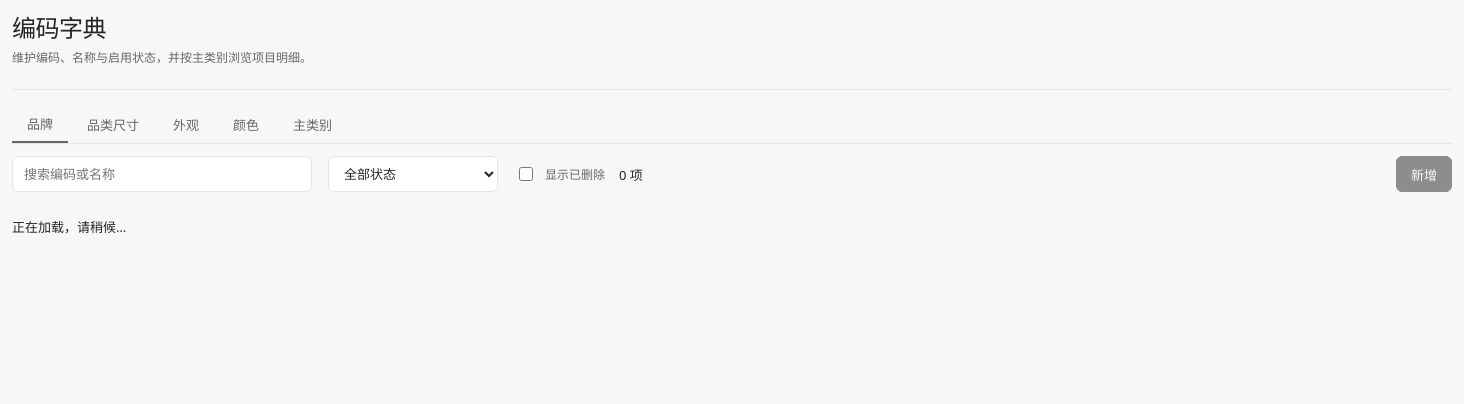
Test: DictionariesPage › filters project details by selected main category ID
Click the tab "主类别": (313, 124) x1=278 y1=106 x2=347 y2=143
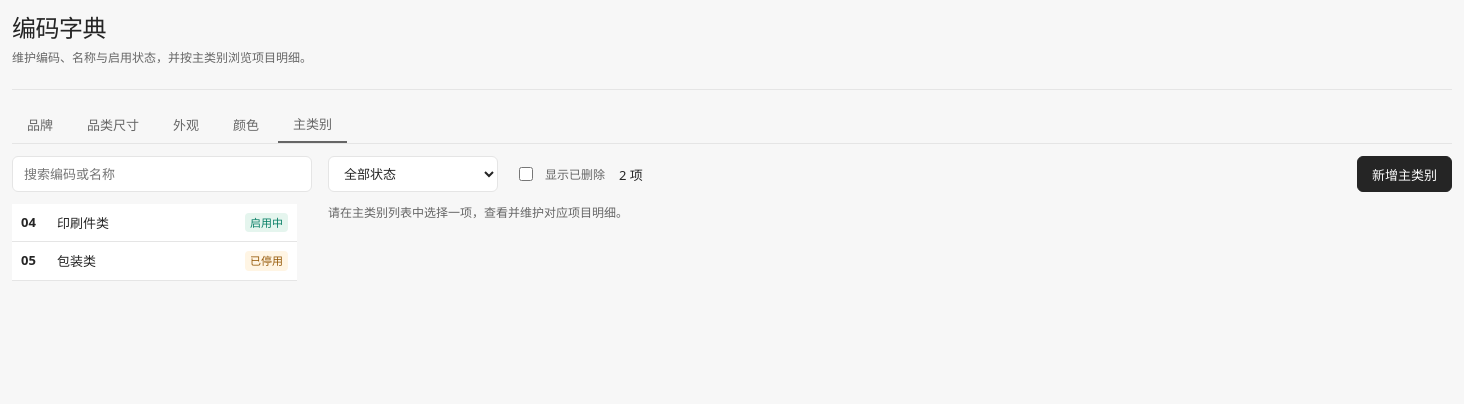
Result: the text "印刷件类" is shown at x1=57 y1=214 x2=109 y2=232
Click the button with aria-label "查看 印刷件类 的项目明细": (83, 223) x1=12 y1=204 x2=297 y2=242
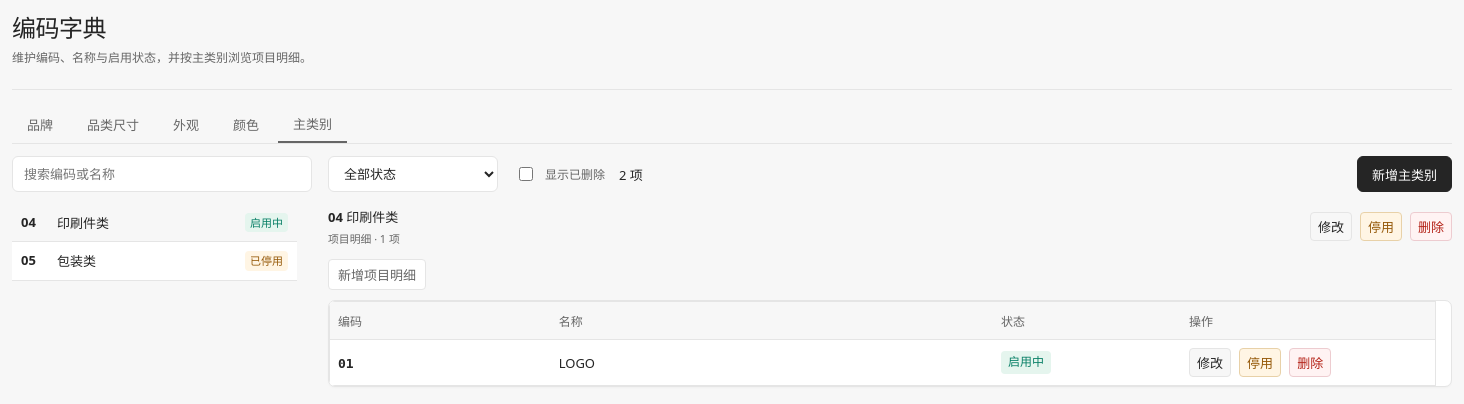
Expected: the text "大外箱" is not shown
Result: the text "LOGO" is shown at x1=551 y1=340 x2=993 y2=386
Click the button with aria-label "查看 包装类 的项目明细": (77, 261) x1=12 y1=242 x2=297 y2=281
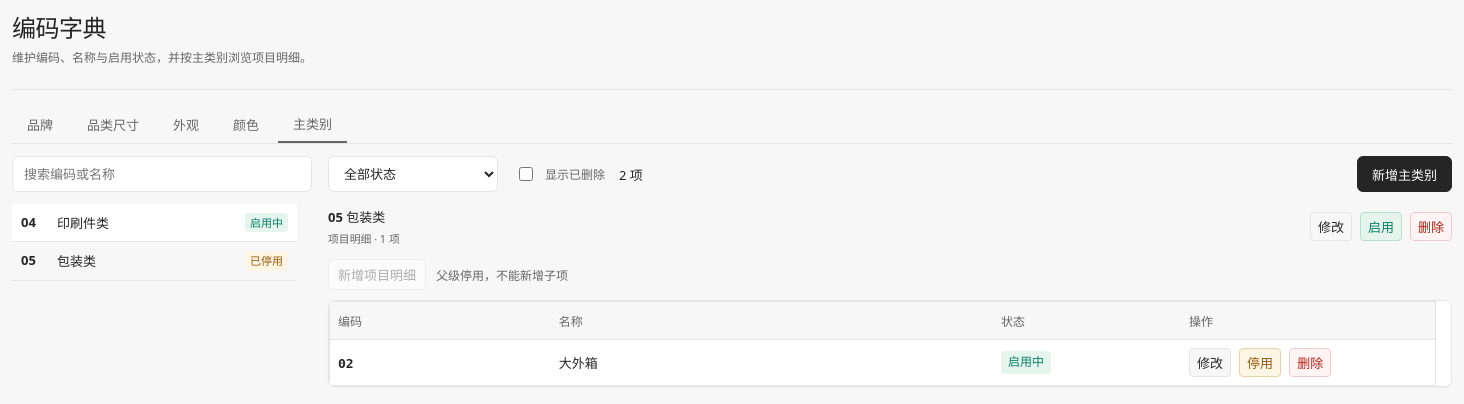
Result: the text "大外箱" is shown at x1=551 y1=340 x2=993 y2=386
Result: the text "LOGO" is gone
